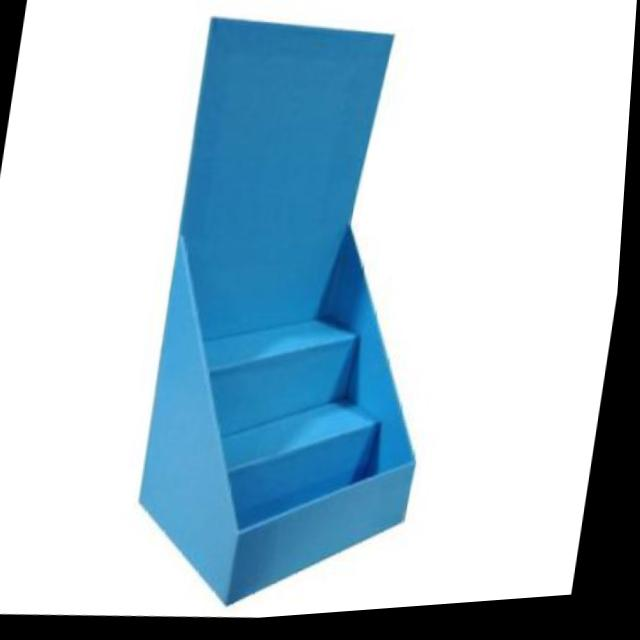box: (104, 0, 530, 632)
